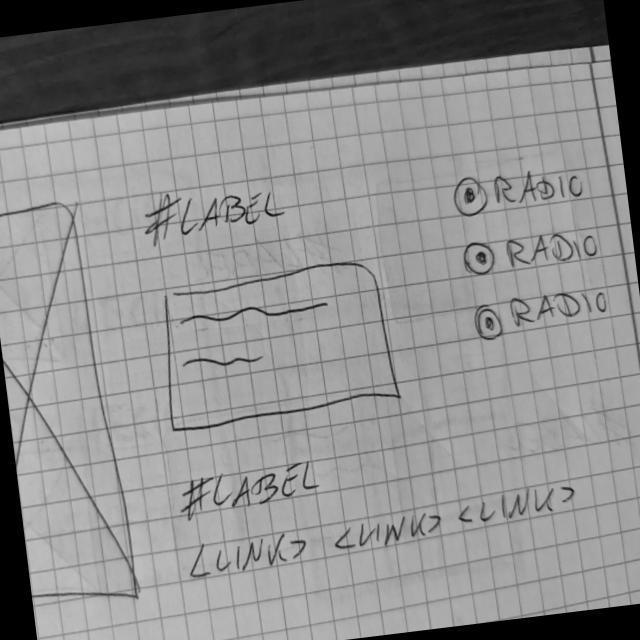image: (1, 198, 143, 613)
label: (139, 176, 290, 248), (178, 458, 323, 524)
link: (185, 529, 313, 584), (454, 481, 580, 531), (329, 508, 446, 558)
radio: (452, 173, 493, 220), (472, 299, 508, 345), (460, 238, 499, 277)
textarea: (152, 255, 406, 438)
